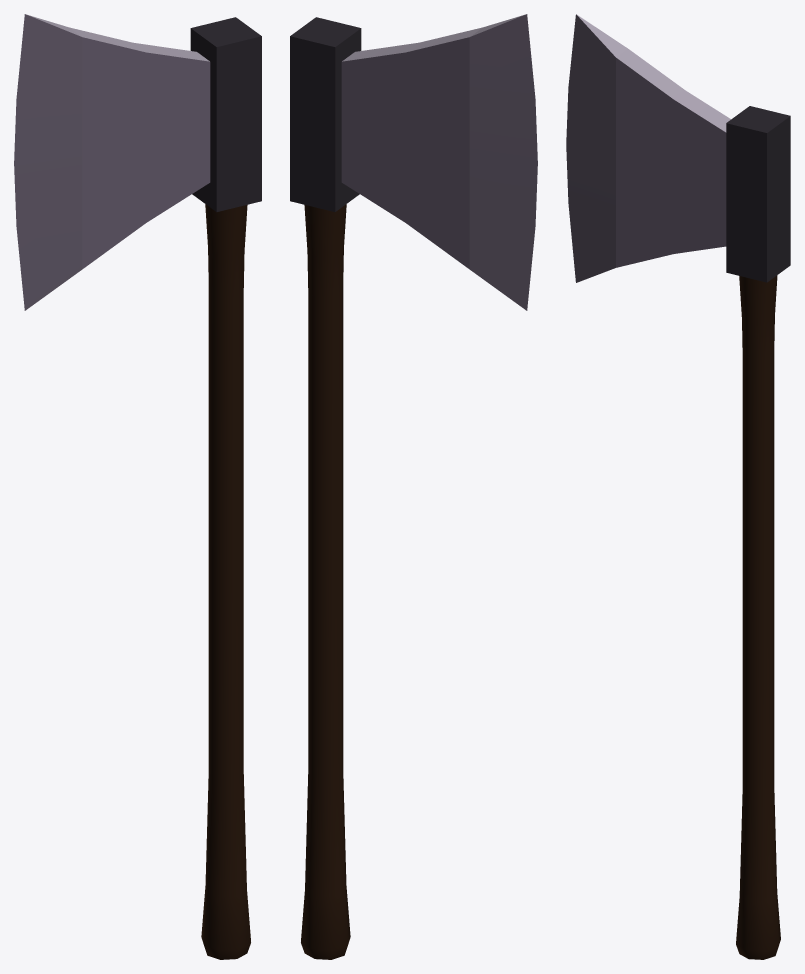
The model's file is VillagerAxe.fbx.
3 renders of one model, left to right at view 1: azimuth 30°, elevation 25°; view 2: azimuth 150°, elevation 25°; view 3: azimuth 330°, elevation 25°, orthographic. The views are drawn at different scales.
Visible parts, largest first — view 1: VillagerAxe; view 2: VillagerAxe; view 3: VillagerAxe.
Boxes of the visible parts, x1,y1,x2,y2 form: VillagerAxe: [14, 14, 261, 959]; VillagerAxe: [290, 14, 537, 959]; VillagerAxe: [566, 14, 790, 959].
Bounding box in the file's own units: 32.38 × 130 × 6.23.
